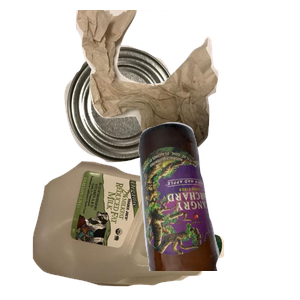glass: (136, 120, 300, 300)
metal: (62, 43, 232, 198)
plastic: (30, 159, 247, 300)
trash: (73, 10, 300, 163)
